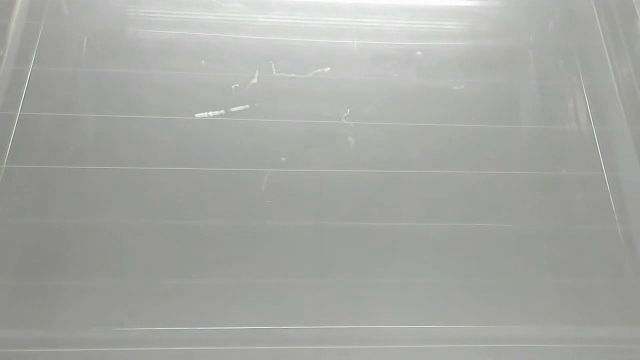alpha: (193, 101, 255, 122)
